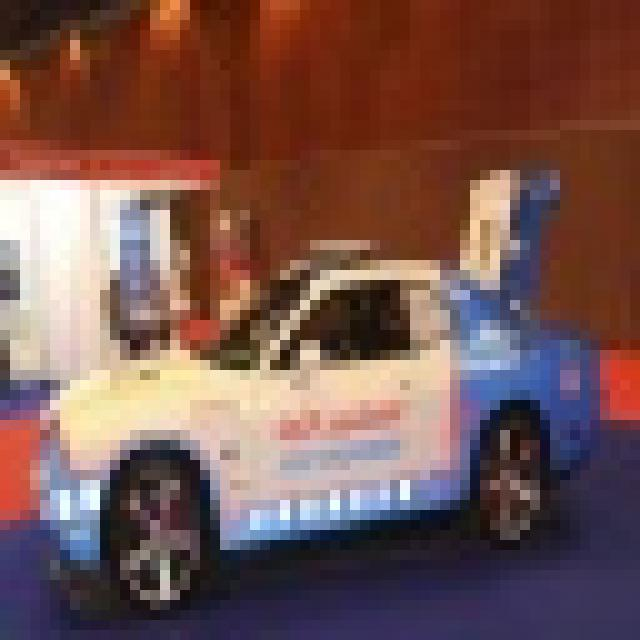Ambulance: (30, 160, 600, 620)
